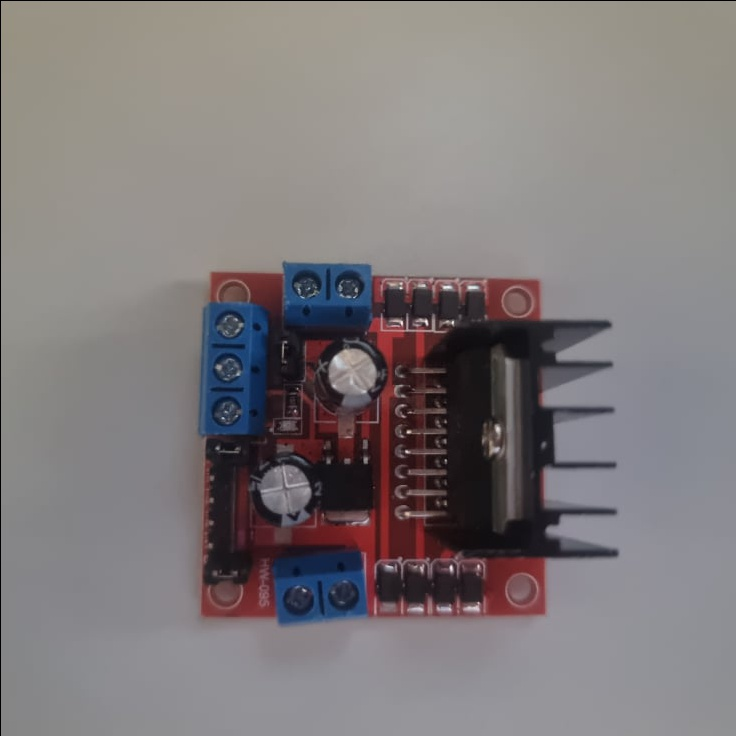MOTOR: (200, 261, 621, 625)
